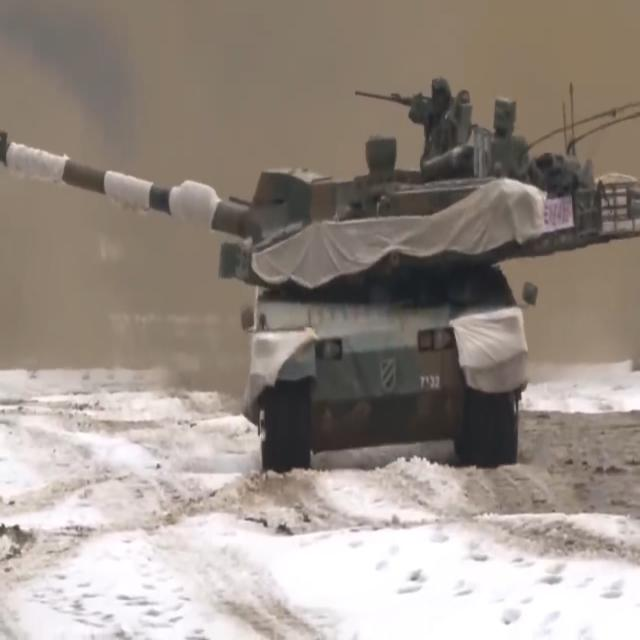korea tank: (0, 71, 640, 478)
